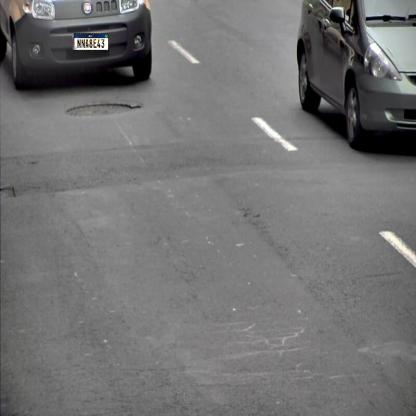PlacaM: (74, 33, 109, 51)
